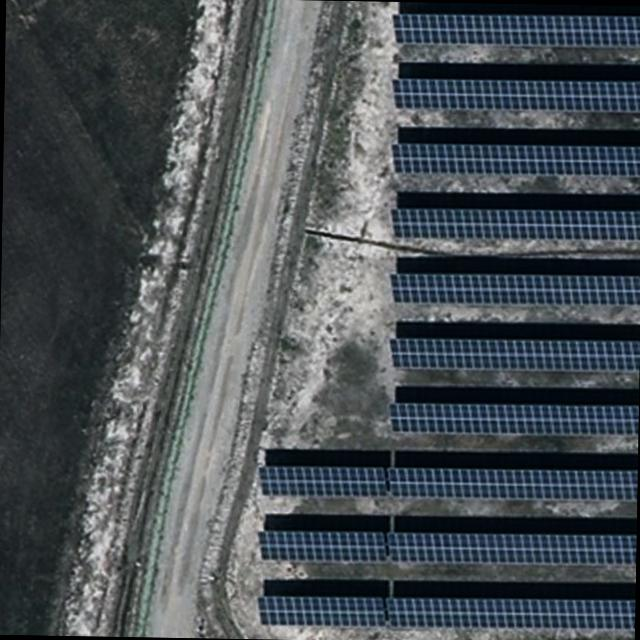solar: (387, 398, 639, 437), (388, 334, 640, 373), (386, 463, 638, 502), (386, 528, 636, 567), (388, 269, 640, 307), (384, 594, 636, 632), (389, 204, 640, 242), (389, 74, 640, 112), (390, 9, 640, 47), (390, 140, 640, 176), (256, 527, 391, 563), (256, 462, 391, 498), (255, 592, 389, 628)
